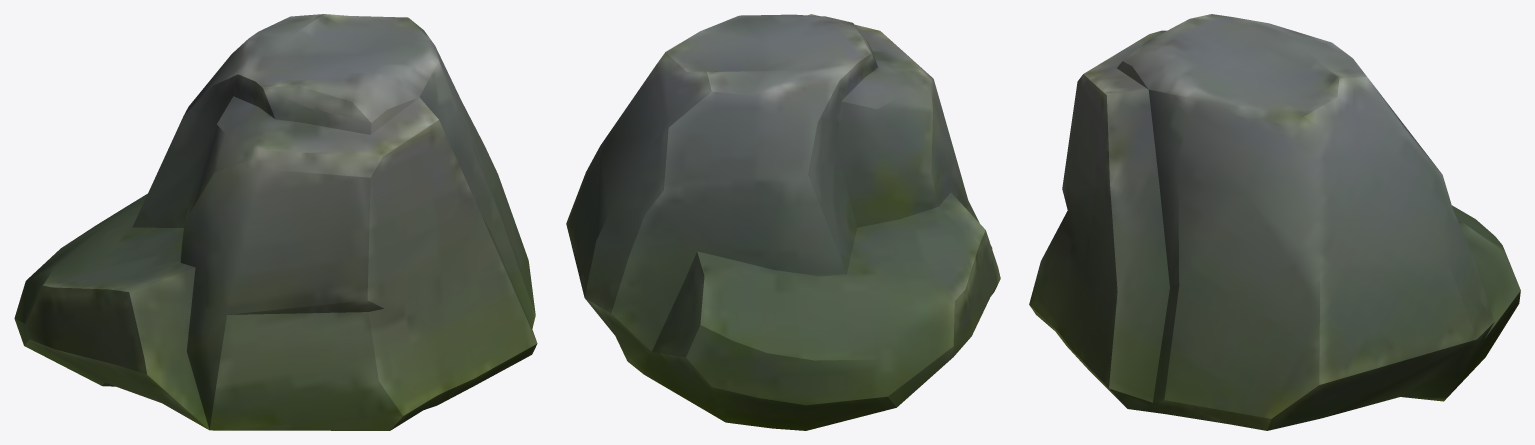
File: rock_medium_1.glb
3 renders of one model, left to right at view 1: azimuth 30°, elevation 25°; view 2: azimuth 150°, elevation 25°; view 3: azimuth 270°, elevation 25°, orthographic. The views are drawn at different scales.
Parts seen in each view (by area): view 1: Rock_Medium_1; view 2: Rock_Medium_1; view 3: Rock_Medium_1.
Part boxes in pixels (box(x1,y1,x2,y2)): Rock_Medium_1: box(14, 14, 537, 430); Rock_Medium_1: box(566, 14, 1000, 430); Rock_Medium_1: box(1029, 14, 1520, 430).
Size of the model in its own units: 3.23 by 2.26 by 2.99.
1 material, 1 textured.
